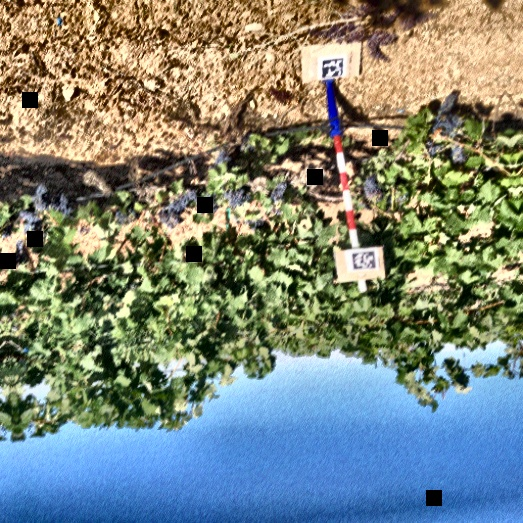QR: (349, 249, 380, 272), (320, 58, 346, 79)
